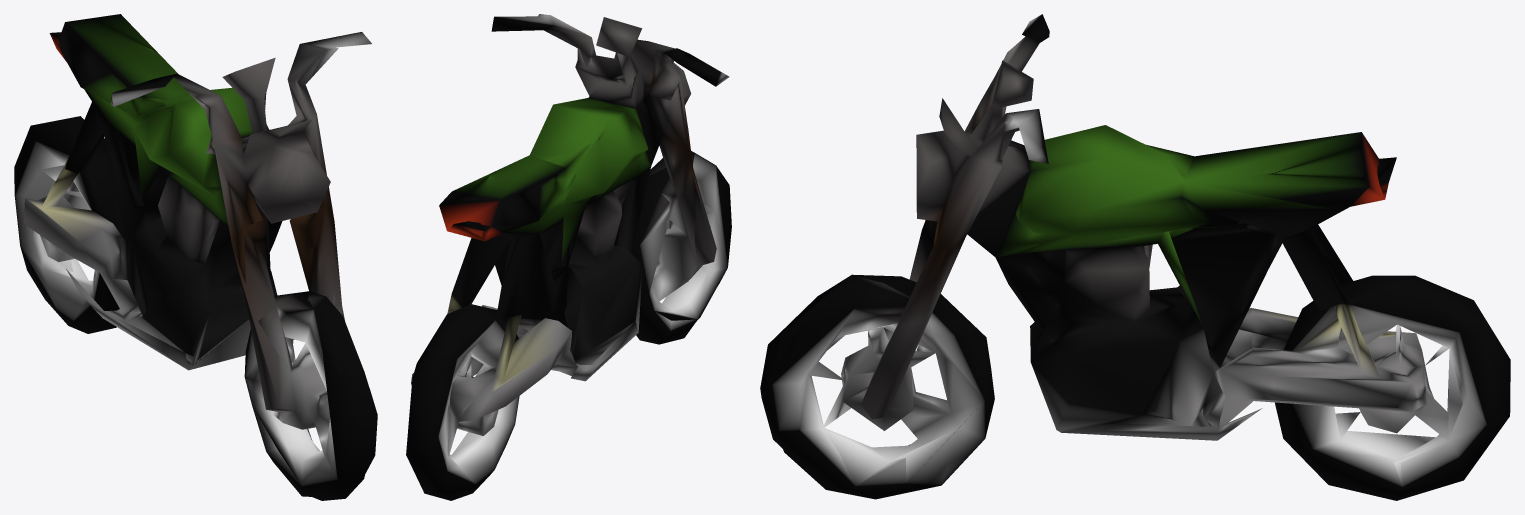
The model's file is gen3d-motorbike-lod1.glb.
The picture shows the model from 3 angles, left to right: view 1: azimuth 30°, elevation 25°; view 2: azimuth 150°, elevation 25°; view 3: azimuth 270°, elevation 25°; orthographic projection. The views are drawn at different scales.
Parts seen in each view (by area): view 1: part_0; view 2: part_0; view 3: part_0.
Part boxes in pixels (x1,y1,x2,y2): part_0: (14,14,377,500); part_0: (406,14,731,500); part_0: (760,14,1510,500).
Size of the model in its own units: 0.6932 by 0.9986 by 1.59.
